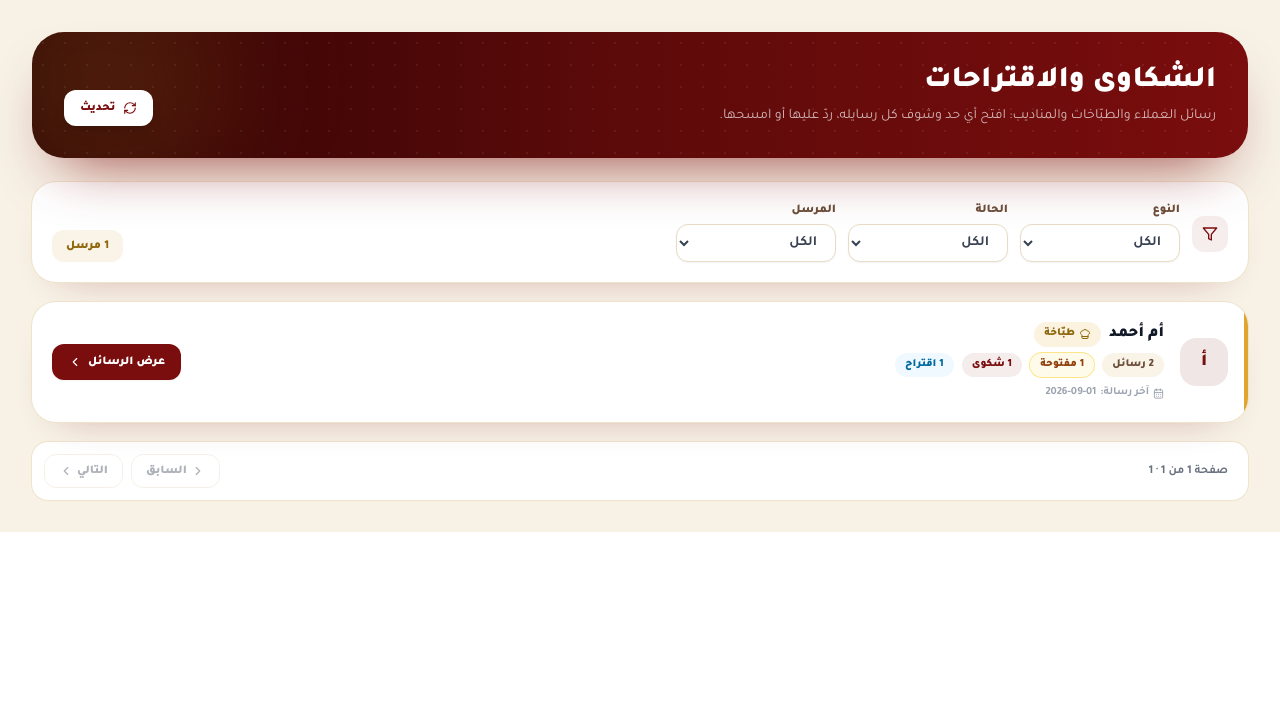
Complaints & Suggestions — grouped by sender › opening a sender lists all their messages; expanding one shows the thread and a reply POSTs
This screenshot has width=1280, height=720.
Expected: the heading "أم أحمد" is shown, left=1109, top=322, right=1164, bottom=346
Step 1. Click the button "عرض الرسائل" → (117, 362), box left=52, top=344, right=181, bottom=380
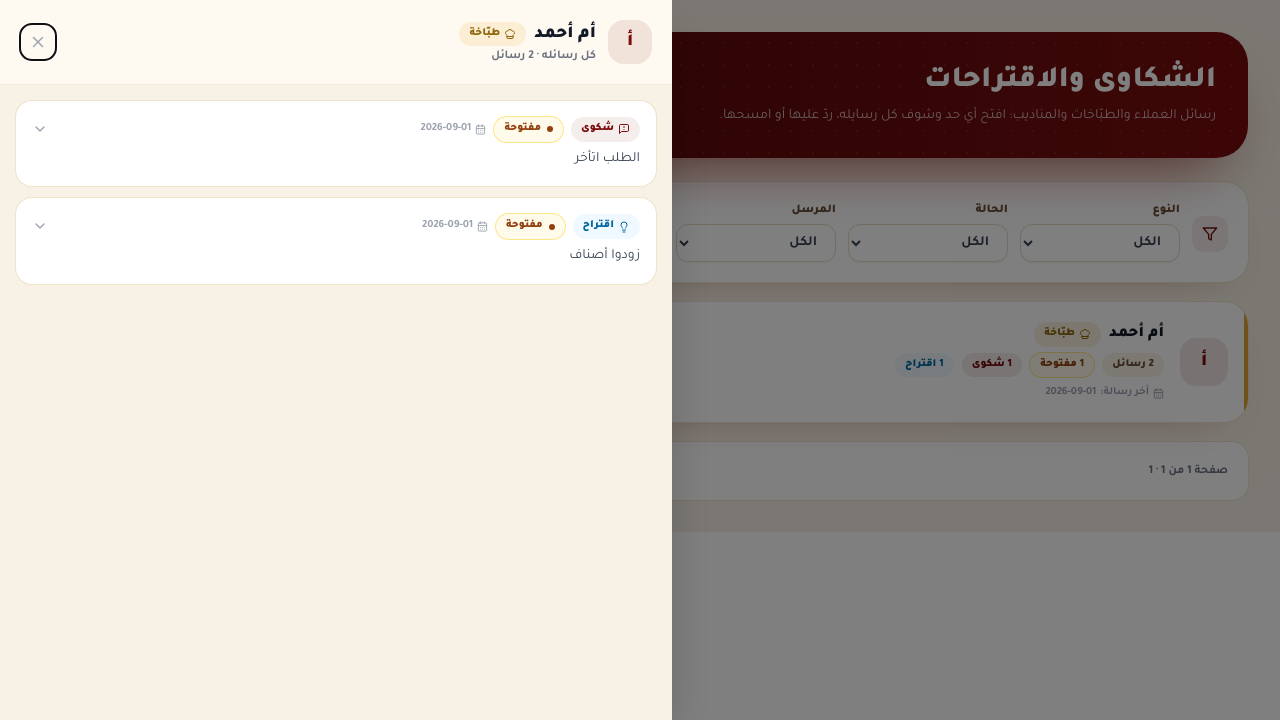
Expected: the text "الطلب اتأخر" is shown, left=575, top=152, right=640, bottom=166
Expected: the text "زودوا أصناف" is shown, left=569, top=249, right=640, bottom=263
Step 2. Click the button "شكوى مفتوحة 2026-09-01 الطلب اتأخر" → (606, 129), box left=16, top=101, right=656, bottom=186
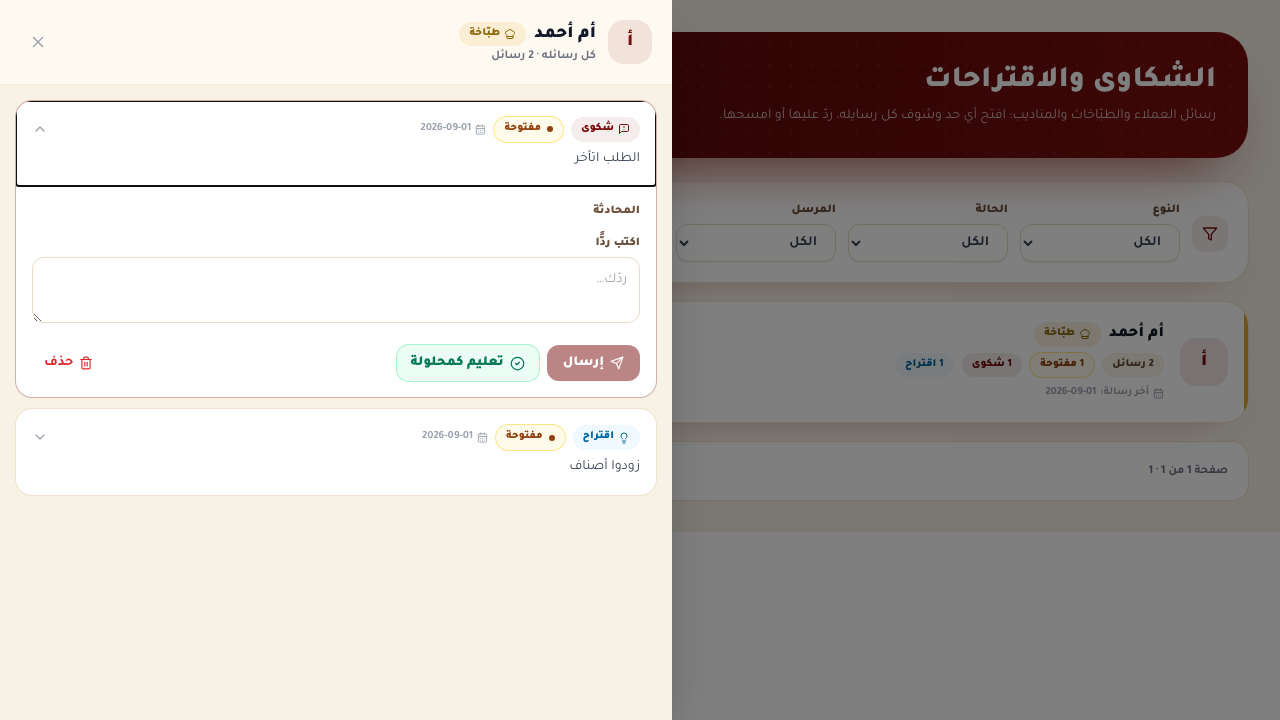
Step 3. Type "نعتذر" into the text box labelled "اكتب ردًّا" → (336, 290), box left=32, top=257, right=640, bottom=323
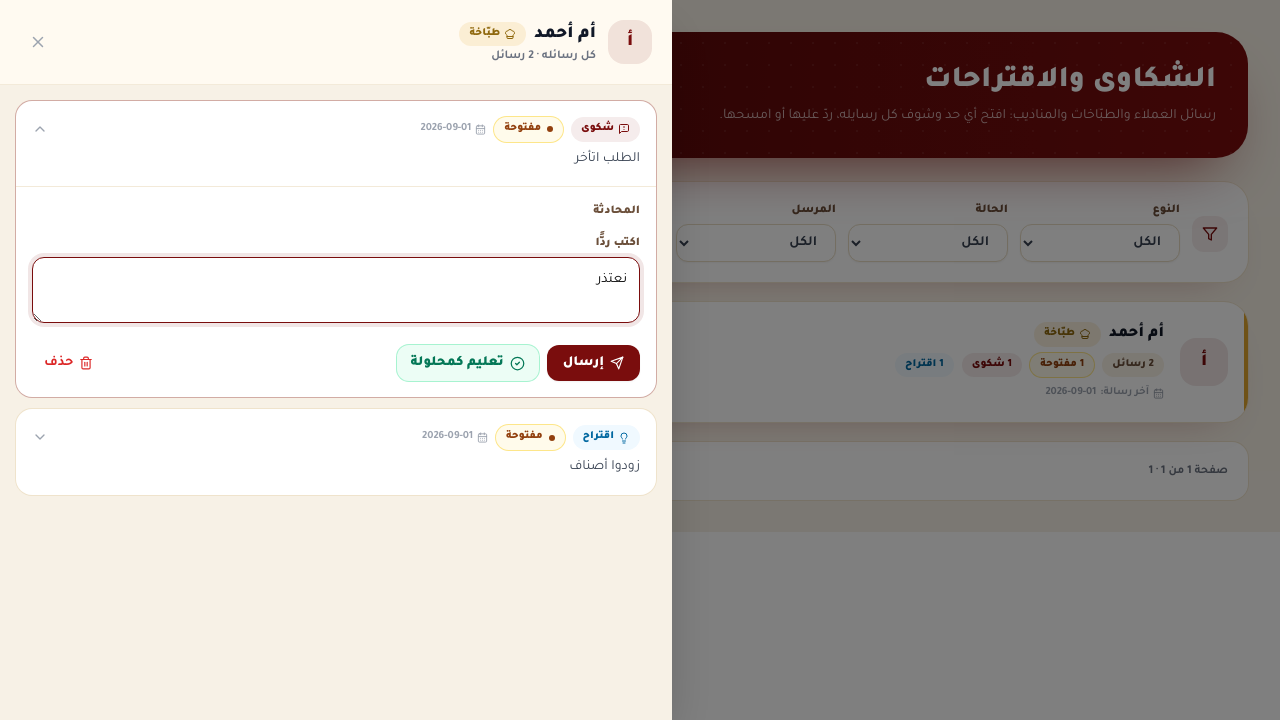
Step 4. Click the button "إرسال" → (593, 363), box left=547, top=345, right=640, bottom=381
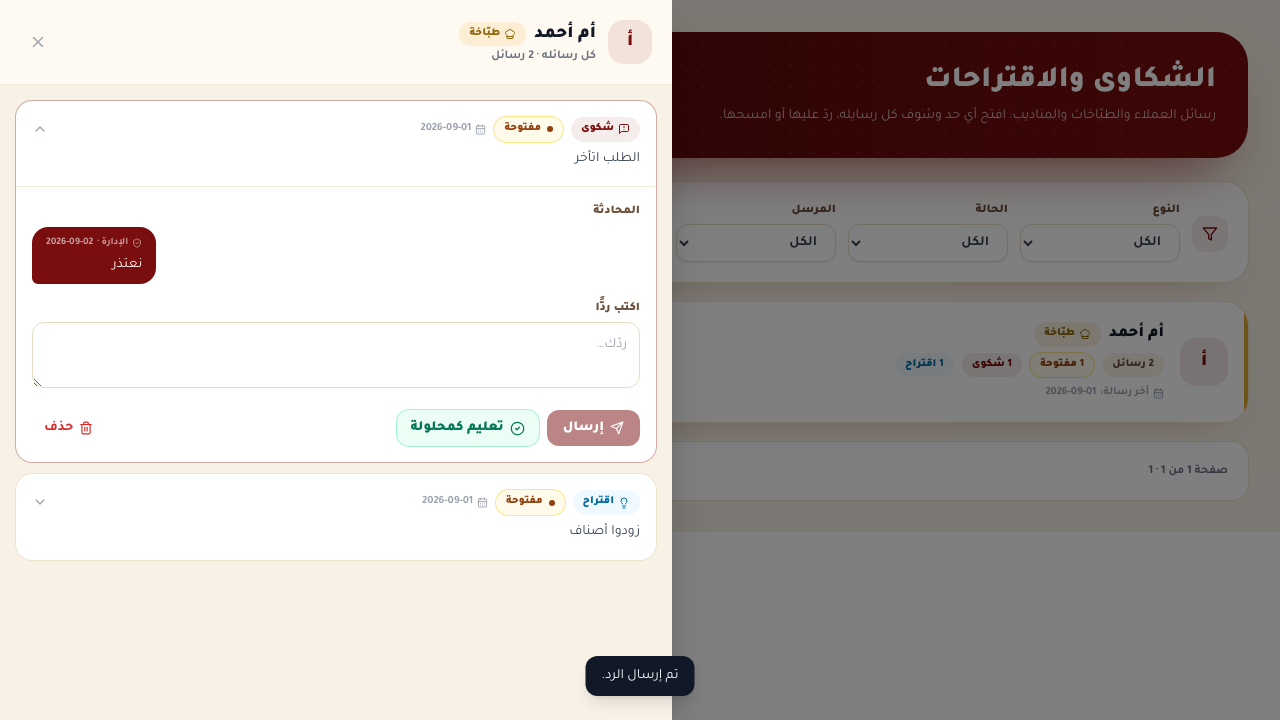
Expected: the text "نعتذر" is shown, left=112, top=258, right=142, bottom=272
